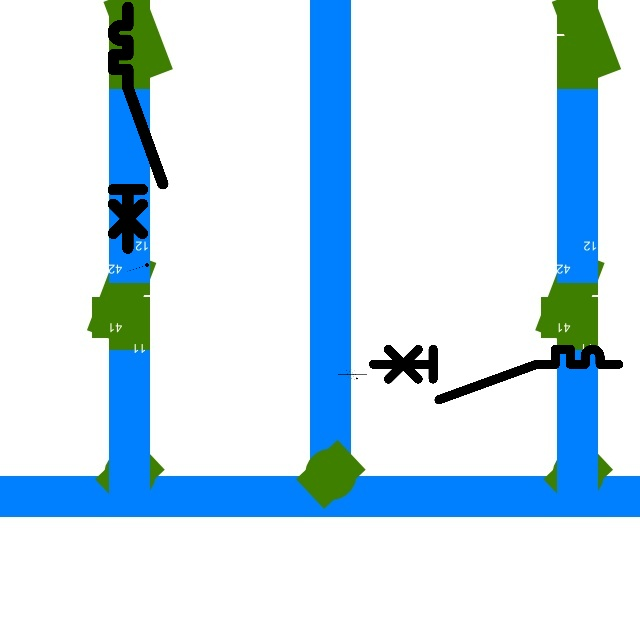interruptor_termomagnetico: (367, 343, 625, 406), (107, 1, 169, 255)
